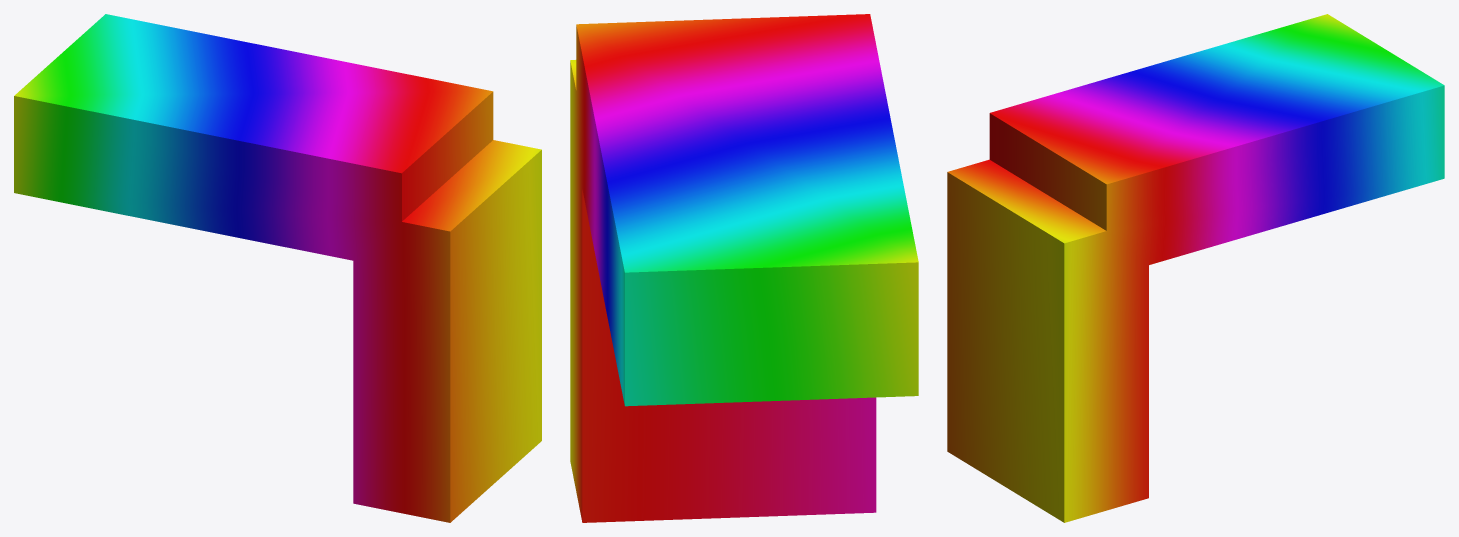
File: Plume Rainbow.fbx
3 views of the same model, side by side, from view 1: azimuth 30°, elevation 25°; view 2: azimuth 150°, elevation 25°; view 3: azimuth 270°, elevation 25° (orthographic). The views are drawn at different scales.
Parts seen in each view (by area): view 1: Plume; view 2: Plume; view 3: Plume.
Part boxes in pixels (box(x1,y1,x2,y2)): Plume: box(14, 14, 541, 522); Plume: box(570, 14, 918, 522); Plume: box(947, 14, 1444, 522).
Bounding box in the file's own units: 0.4207 × 0.35 × 0.4838.
